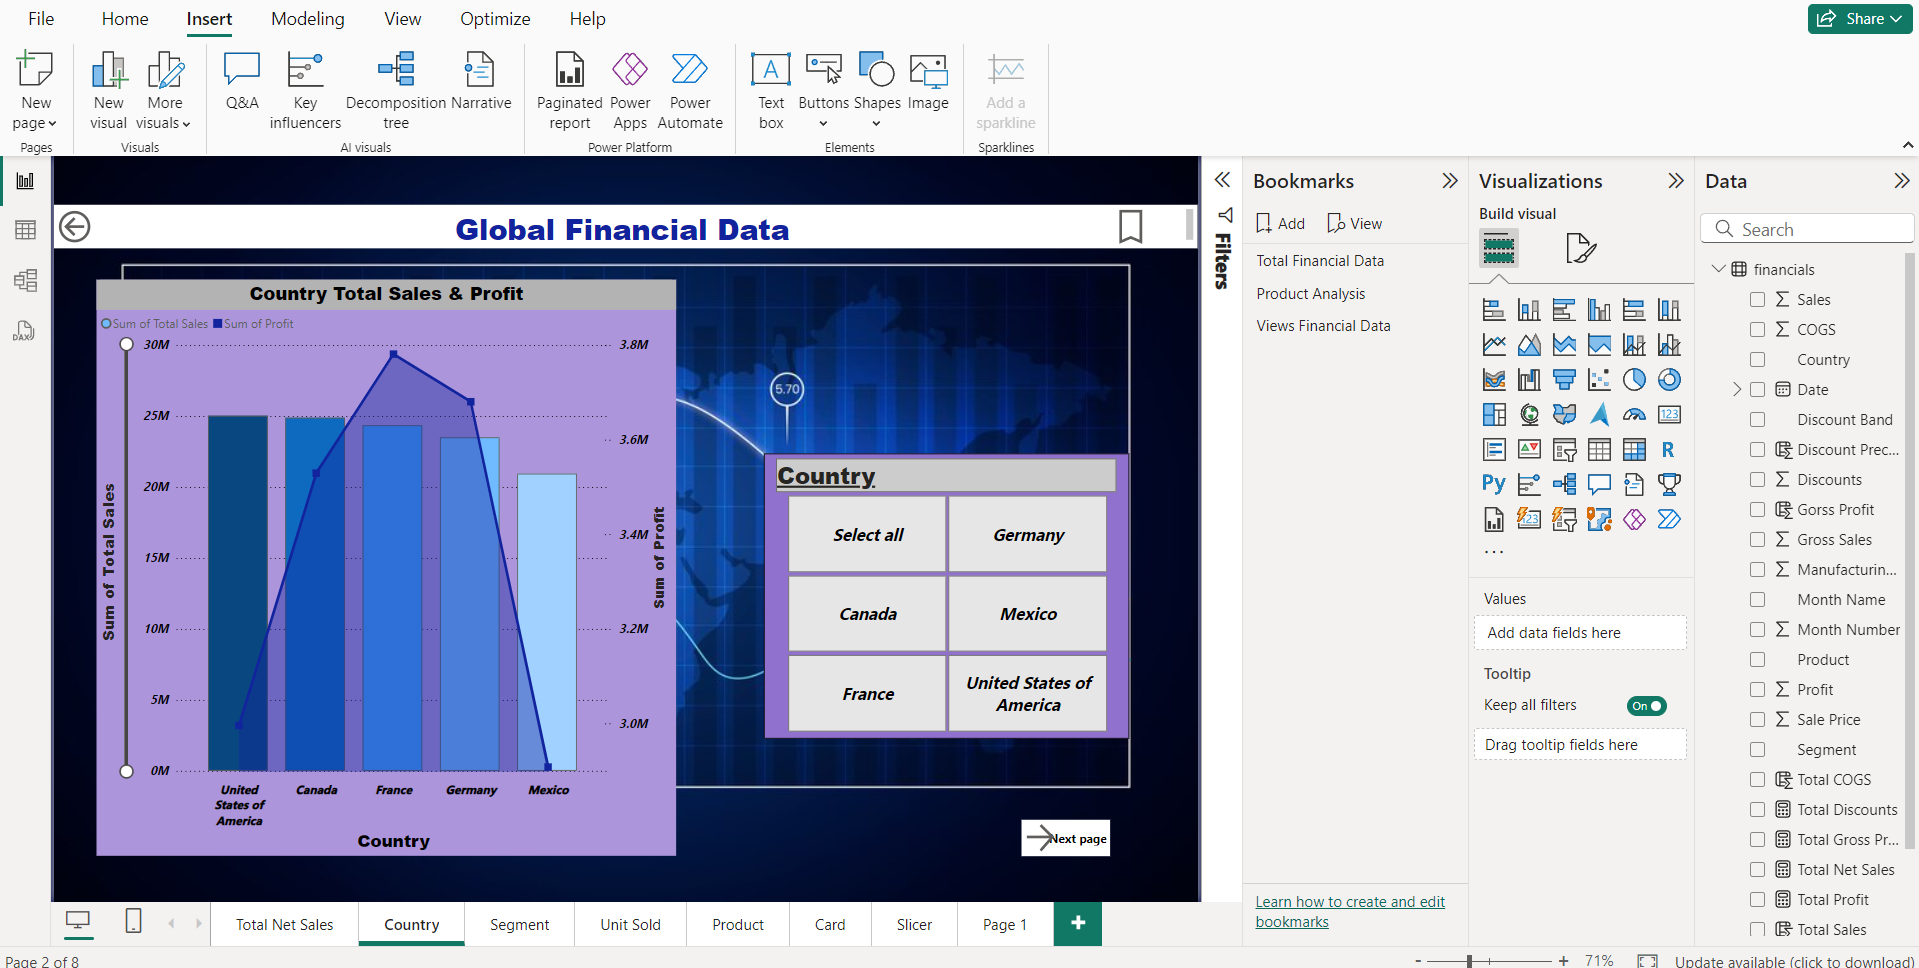

This screenshot's page, from the dashboard's own definition file:
{"tool":"powerbi","page":{"name":"Country","canvas":[1280,835],"ordinal":1},"visuals":[{"type":"textbox","box":[0,54.6,1280.2,49],"z":1},{"type":"lineStackedColumnComboChart","title":"Country Total Sales & Profit","fields":{"Category":["financials.Country"],"Y":["Sum(financials.Total Sales)"],"Y2":["Sum(financials.Profit)"]},"box":[47.6,138.5,649.2,645],"z":2},{"type":"slicer","fields":{"Values":["financials.Country"]},"box":[794.7,333,408.5,319],"z":3},{"type":"actionButton","box":[1082.9,742.9,99.3,40.6],"z":4},{"type":"actionButton","box":[0,56,64.4,46.2],"z":5},{"type":"actionButton","box":[1180.9,54.6,99.3,49],"z":6}]}

Visuals, with their boxes on the page's 1280x835 design canvas (x1, y1, x2, y2). These are canvas units, not pixel positions in the 1919x968 screenshot, which may show the page scaled, cropped or inside an application window:
textbox: 0, 55, 1280, 104
"Country Total Sales & Profit" lineStackedColumnComboChart: 48, 138, 697, 784
slicer - financials.Country: 795, 333, 1203, 652
actionButton: 1083, 743, 1182, 784
actionButton: 0, 56, 64, 102
actionButton: 1181, 55, 1280, 104
